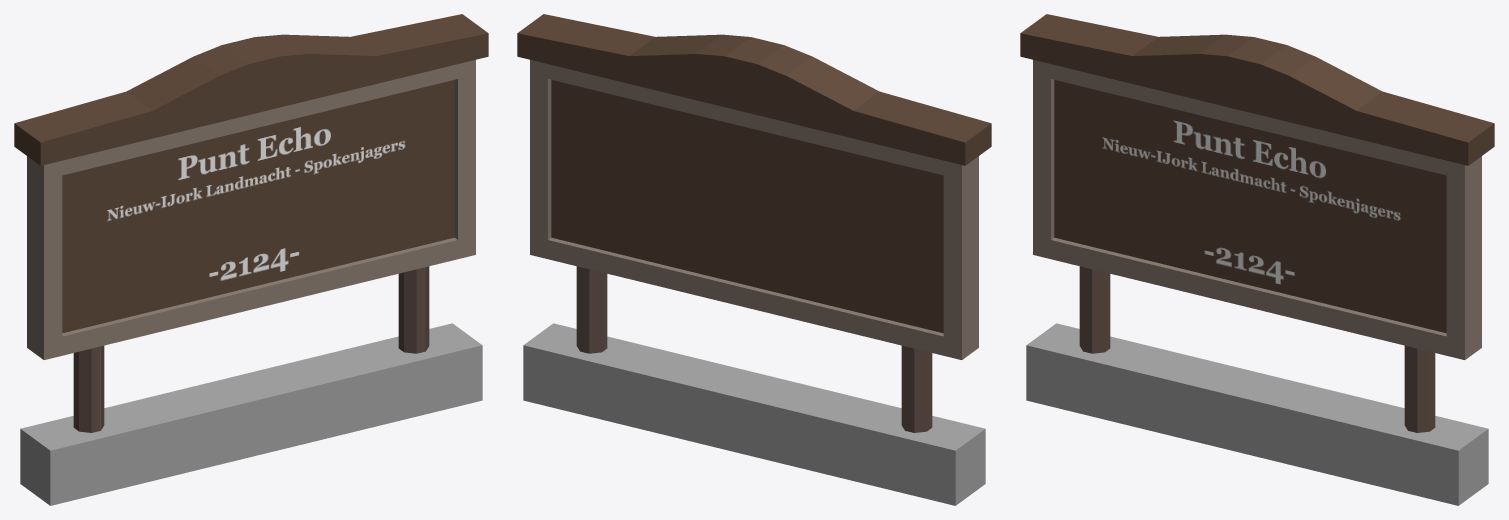
The model's file is WelcomeSignPE.fbx.
3 renders of one model, left to right at view 1: azimuth 30°, elevation 25°; view 2: azimuth 150°, elevation 25°; view 3: azimuth 330°, elevation 25°, orthographic.
Parts seen in each view (by area): view 1: Sign; view 2: Sign; view 3: Sign.
Part boxes in pixels (bbox=[...]): Sign: bbox=[14, 14, 488, 505]; Sign: bbox=[517, 14, 991, 505]; Sign: bbox=[1020, 14, 1494, 505].
Bounding box in the file's own units: 491 × 410 × 57.03.
Materials: 1 (1 with a texture image).
